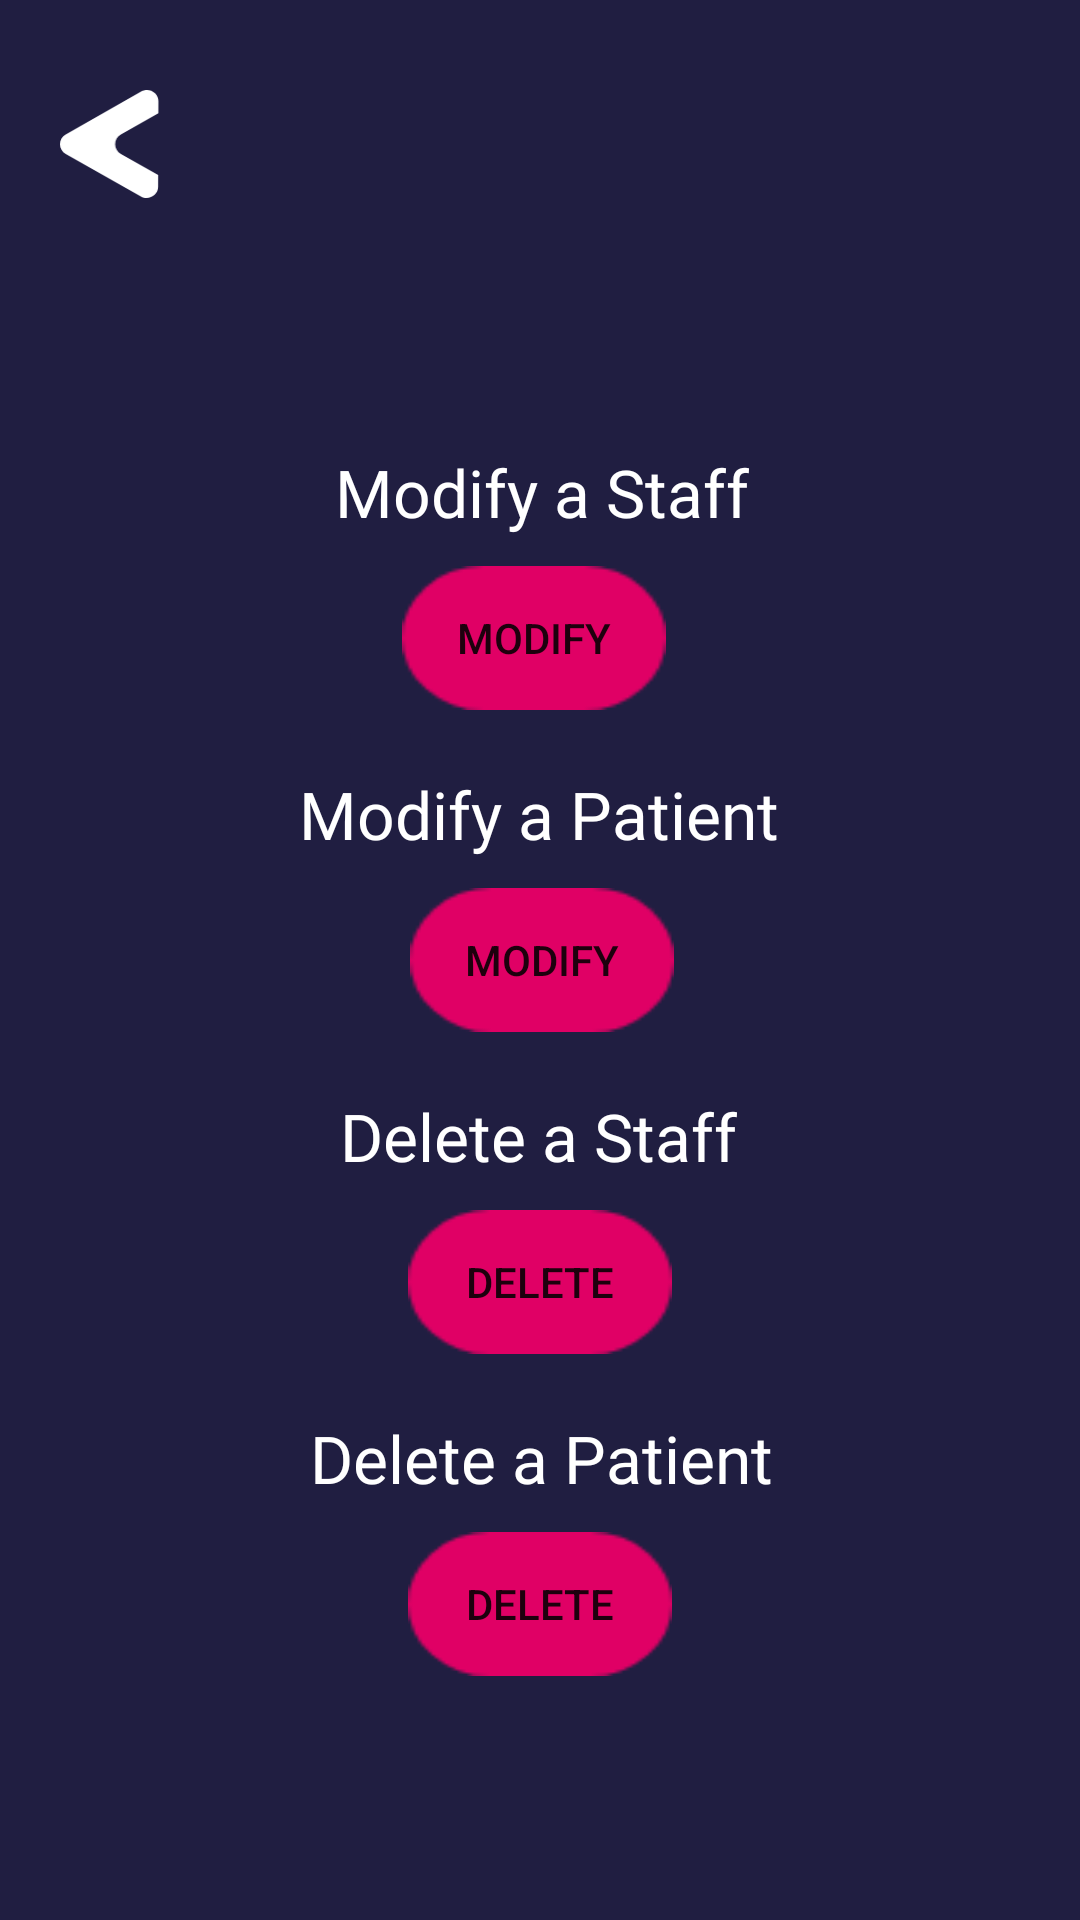

Named icons in this screenshot (1080×1920) and their centers, [x,y]:
backbtn: [109,144]
